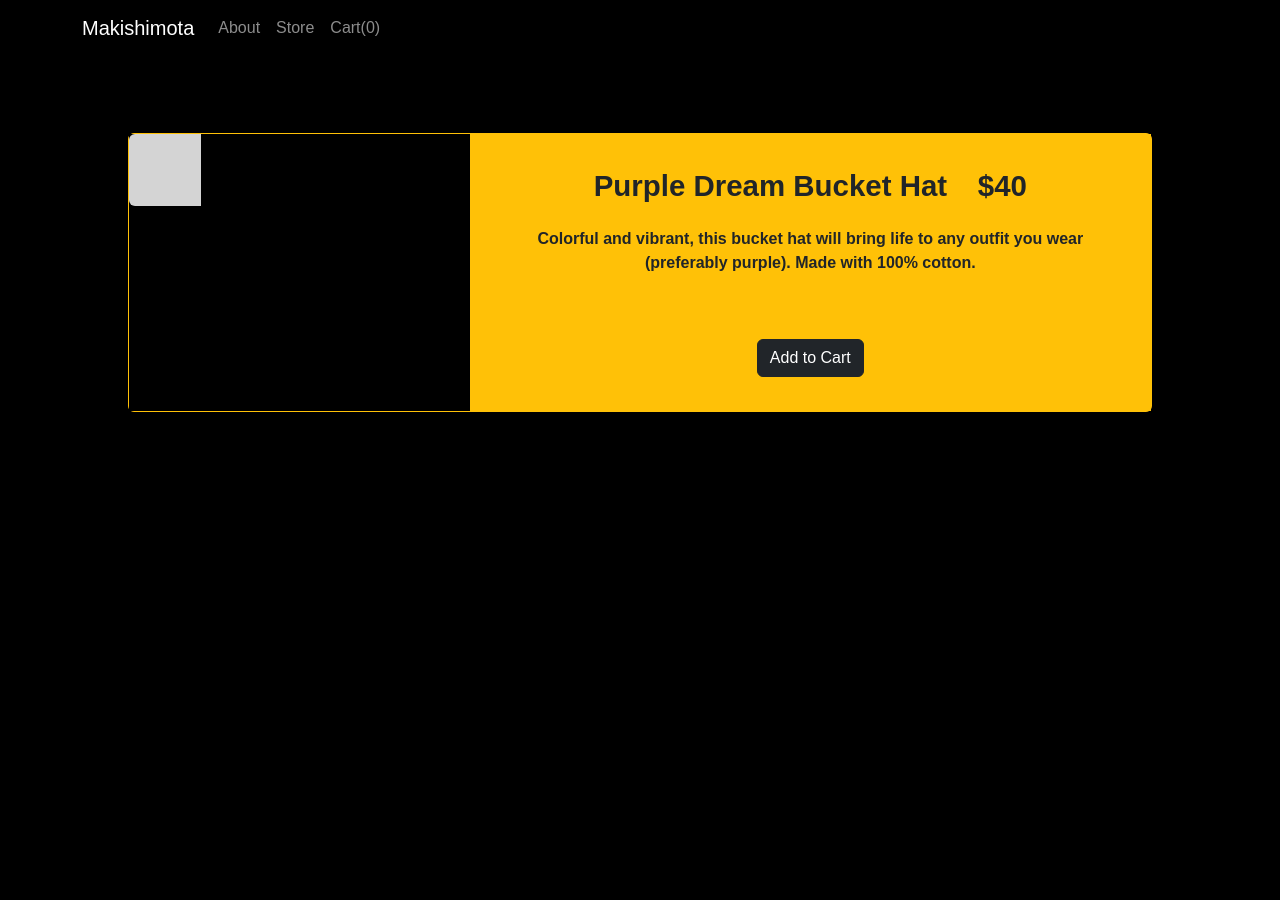
if add to cart is clicked twice, alert pops up
Note: double click add to cart
Double-click the button "Add to Cart".
double_click(810, 358)  # box 757,339 -> 864,377
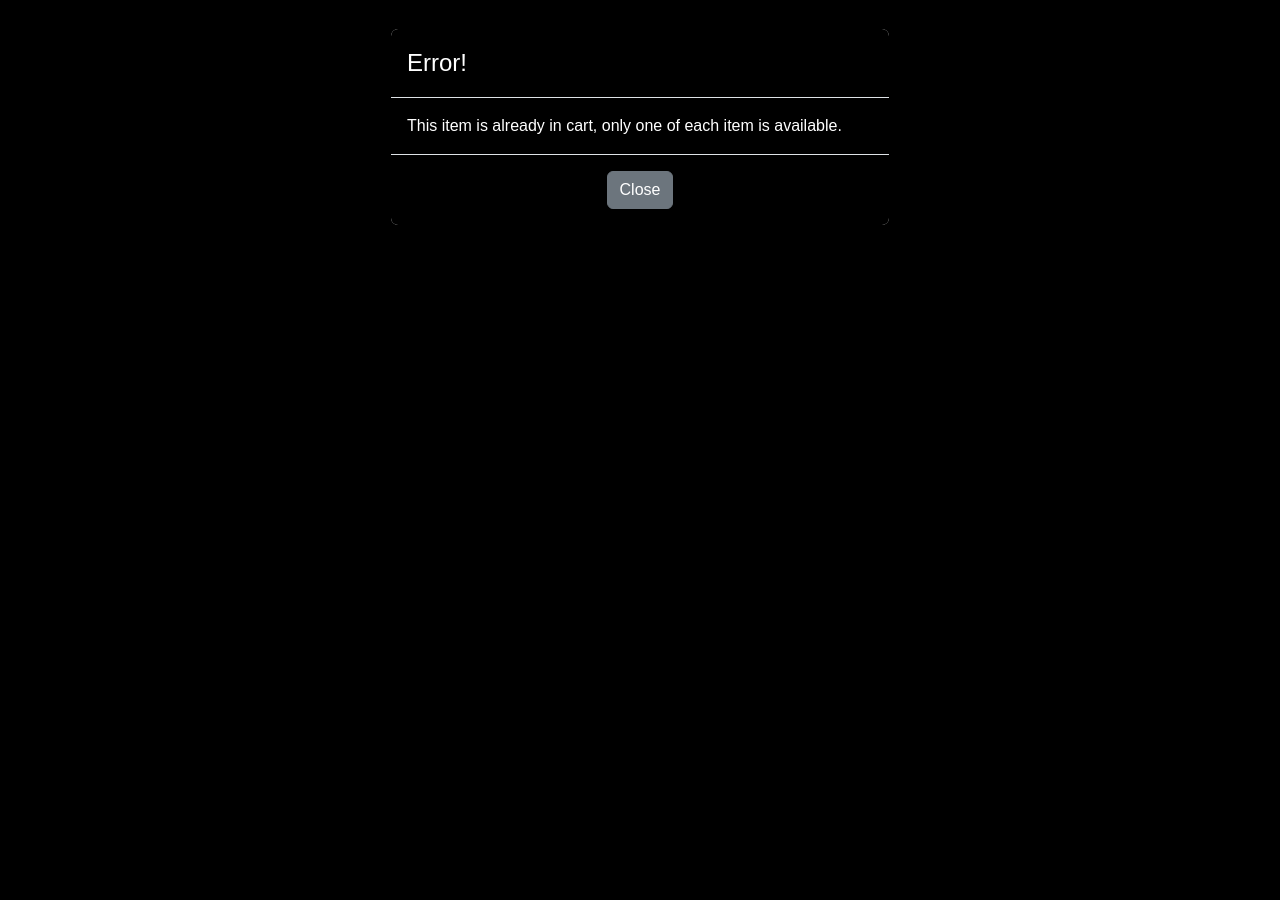
Expected: the text "Error!" is shown, 407,45 -> 467,81
